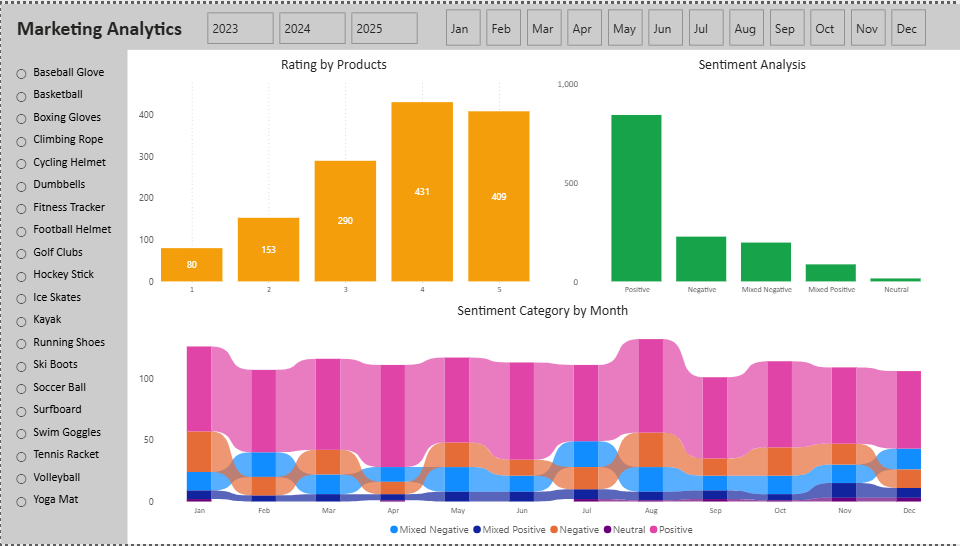

Layout of this report page (visuals, bound fields, positions):
{"tool":"powerbi","page":{"name":"Reviews  ","canvas":[1280,720],"ordinal":3},"visuals":[{"type":"listSlicer","fields":{"Values":["dim_products.productname"]},"box":[0,53.3,168.9,666.7],"z":0},{"type":"shape","box":[0,0,1280,61.1],"z":1000},{"type":"textbox","box":[15.1,9.1,240.9,44.3],"z":2000},{"type":"advancedSlicerVisual","fields":{"Values":["Calendar.Year"]},"box":[269.1,5,292.3,52.4],"z":3000},{"type":"advancedSlicerVisual","fields":{"Values":["Calendar.MonthNameShort"]},"box":[568.4,1,699.5,58.5],"z":4000},{"type":"columnChart","title":"Rating by Products","fields":{"Category":["fact_customer_reviews_with_sentiment.Rating"],"Y":["CountNonNull(fact_customer_reviews_with_sentiment.ProductID)"]},"box":[178.3,68.4,531.7,328.6],"z":4001},{"type":"columnChart","title":"Sentiment Analysis","fields":{"Y":["CountNonNull(fact_customer_reviews_with_sentiment.ProductID)"],"Category":["fact_customer_reviews_with_sentiment.SentimentCategory"]},"box":[735.9,68.4,531.7,328.6],"z":4002},{"type":"ribbonChart","title":"Sentiment Category by Month","fields":{"Category":["Calendar.MonthNameShort"],"Series":["fact_customer_reviews_with_sentiment.SentimentCategory"],"Y":["CountNonNull(fact_customer_reviews_with_sentiment.ReviewID)"]},"box":[178.3,395.9,1089.3,323.4],"z":4003}]}

Visuals, with their boxes in screenshot pixels (x1, y1, x2, y2), scaled from the page's 1280x720 canvas onto the 960x546 screenshot:
listSlicer - dim_products.productname: [0,40,127,545]
shape: [0,0,959,46]
textbox: [11,7,192,40]
advancedSlicerVisual - Calendar.Year: [202,4,421,44]
advancedSlicerVisual - Calendar.MonthNameShort: [426,1,951,45]
"Rating by Products" columnChart: [134,52,532,301]
"Sentiment Analysis" columnChart: [552,52,951,301]
"Sentiment Category by Month" ribbonChart: [134,300,951,545]
